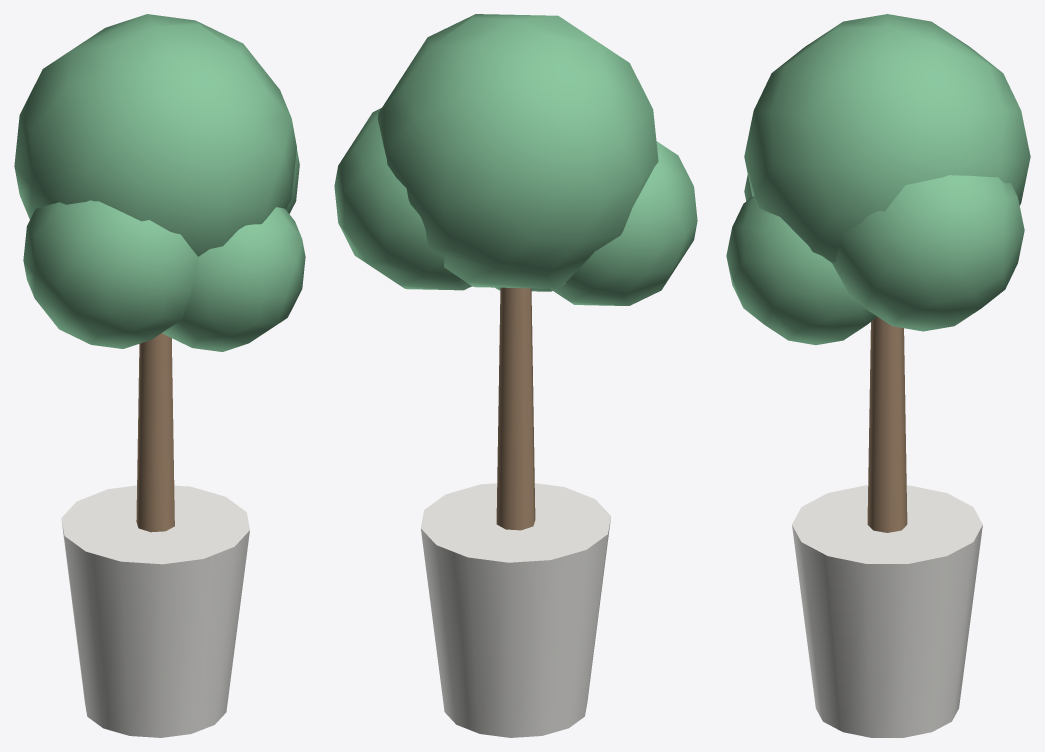
The model's file is plant_potted.glb.
3 views of the same model, side by side, from view 1: azimuth 30°, elevation 25°; view 2: azimuth 150°, elevation 25°; view 3: azimuth 270°, elevation 25° (orthographic).
Parts seen in each view (by area): view 1: plant_potted; view 2: plant_potted; view 3: plant_potted.
Boxes of the visible parts, x1,y1,x2,y2 form: plant_potted: (14,14,305,737); plant_potted: (334,14,697,737); plant_potted: (726,14,1030,737).
Bounding box in the file's own units: 0.57 × 1.26 × 0.51.
